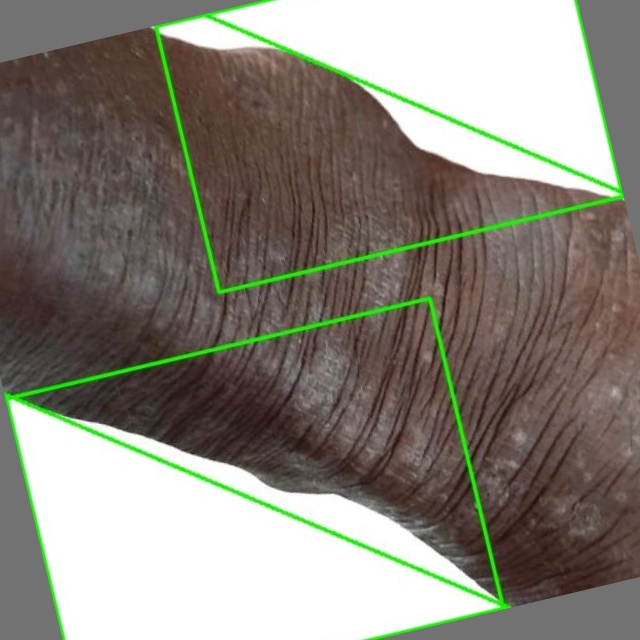Contact Dermatitis: (0, 56, 639, 577), (6, 298, 503, 639), (156, 0, 623, 292)
